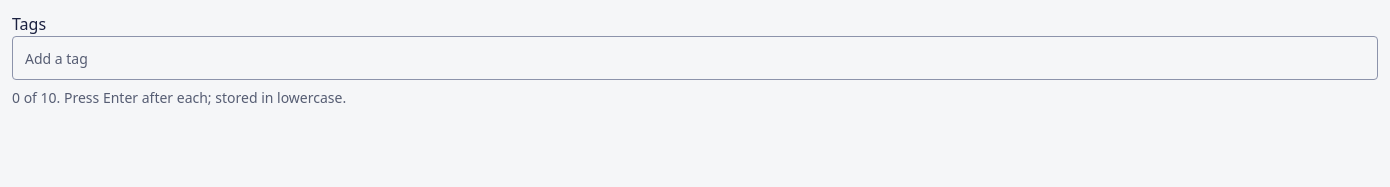
TagInput › adds what was typed on Enter, as it will be stored
Type "Mongo DB" into the field labelled "Tags". click: coordinates (695, 58)
box: [12,36,1378,80]
Then press Enter
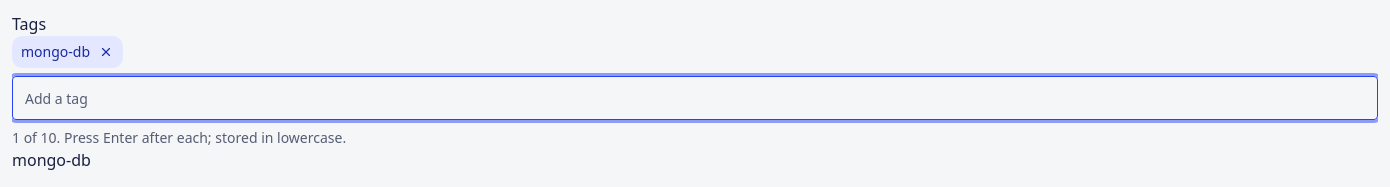
Expected: the field labelled "Tags" is empty, [12,76,1378,120]
Expected: the 1st text "mongo-db" is shown, [21,42,90,62]
